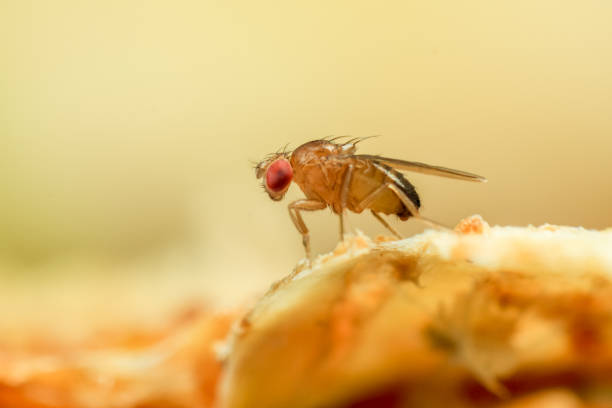Fruit fly: (229, 113, 443, 255)
